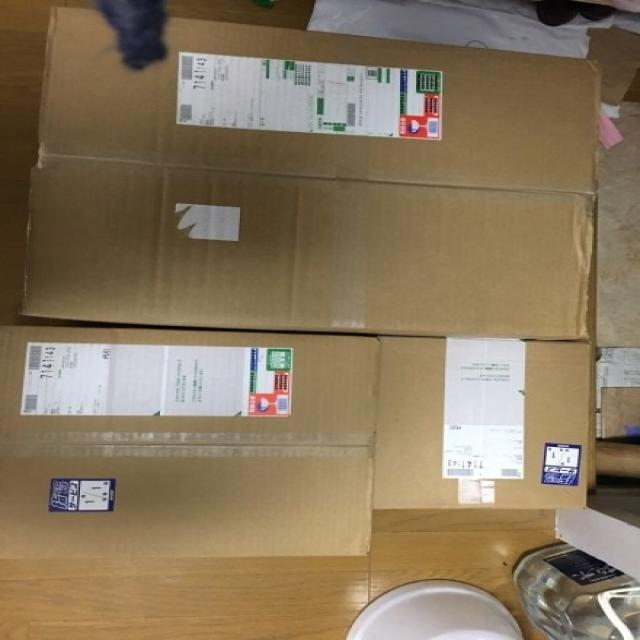box: (17, 6, 603, 340), (0, 320, 378, 559), (371, 338, 596, 511)
